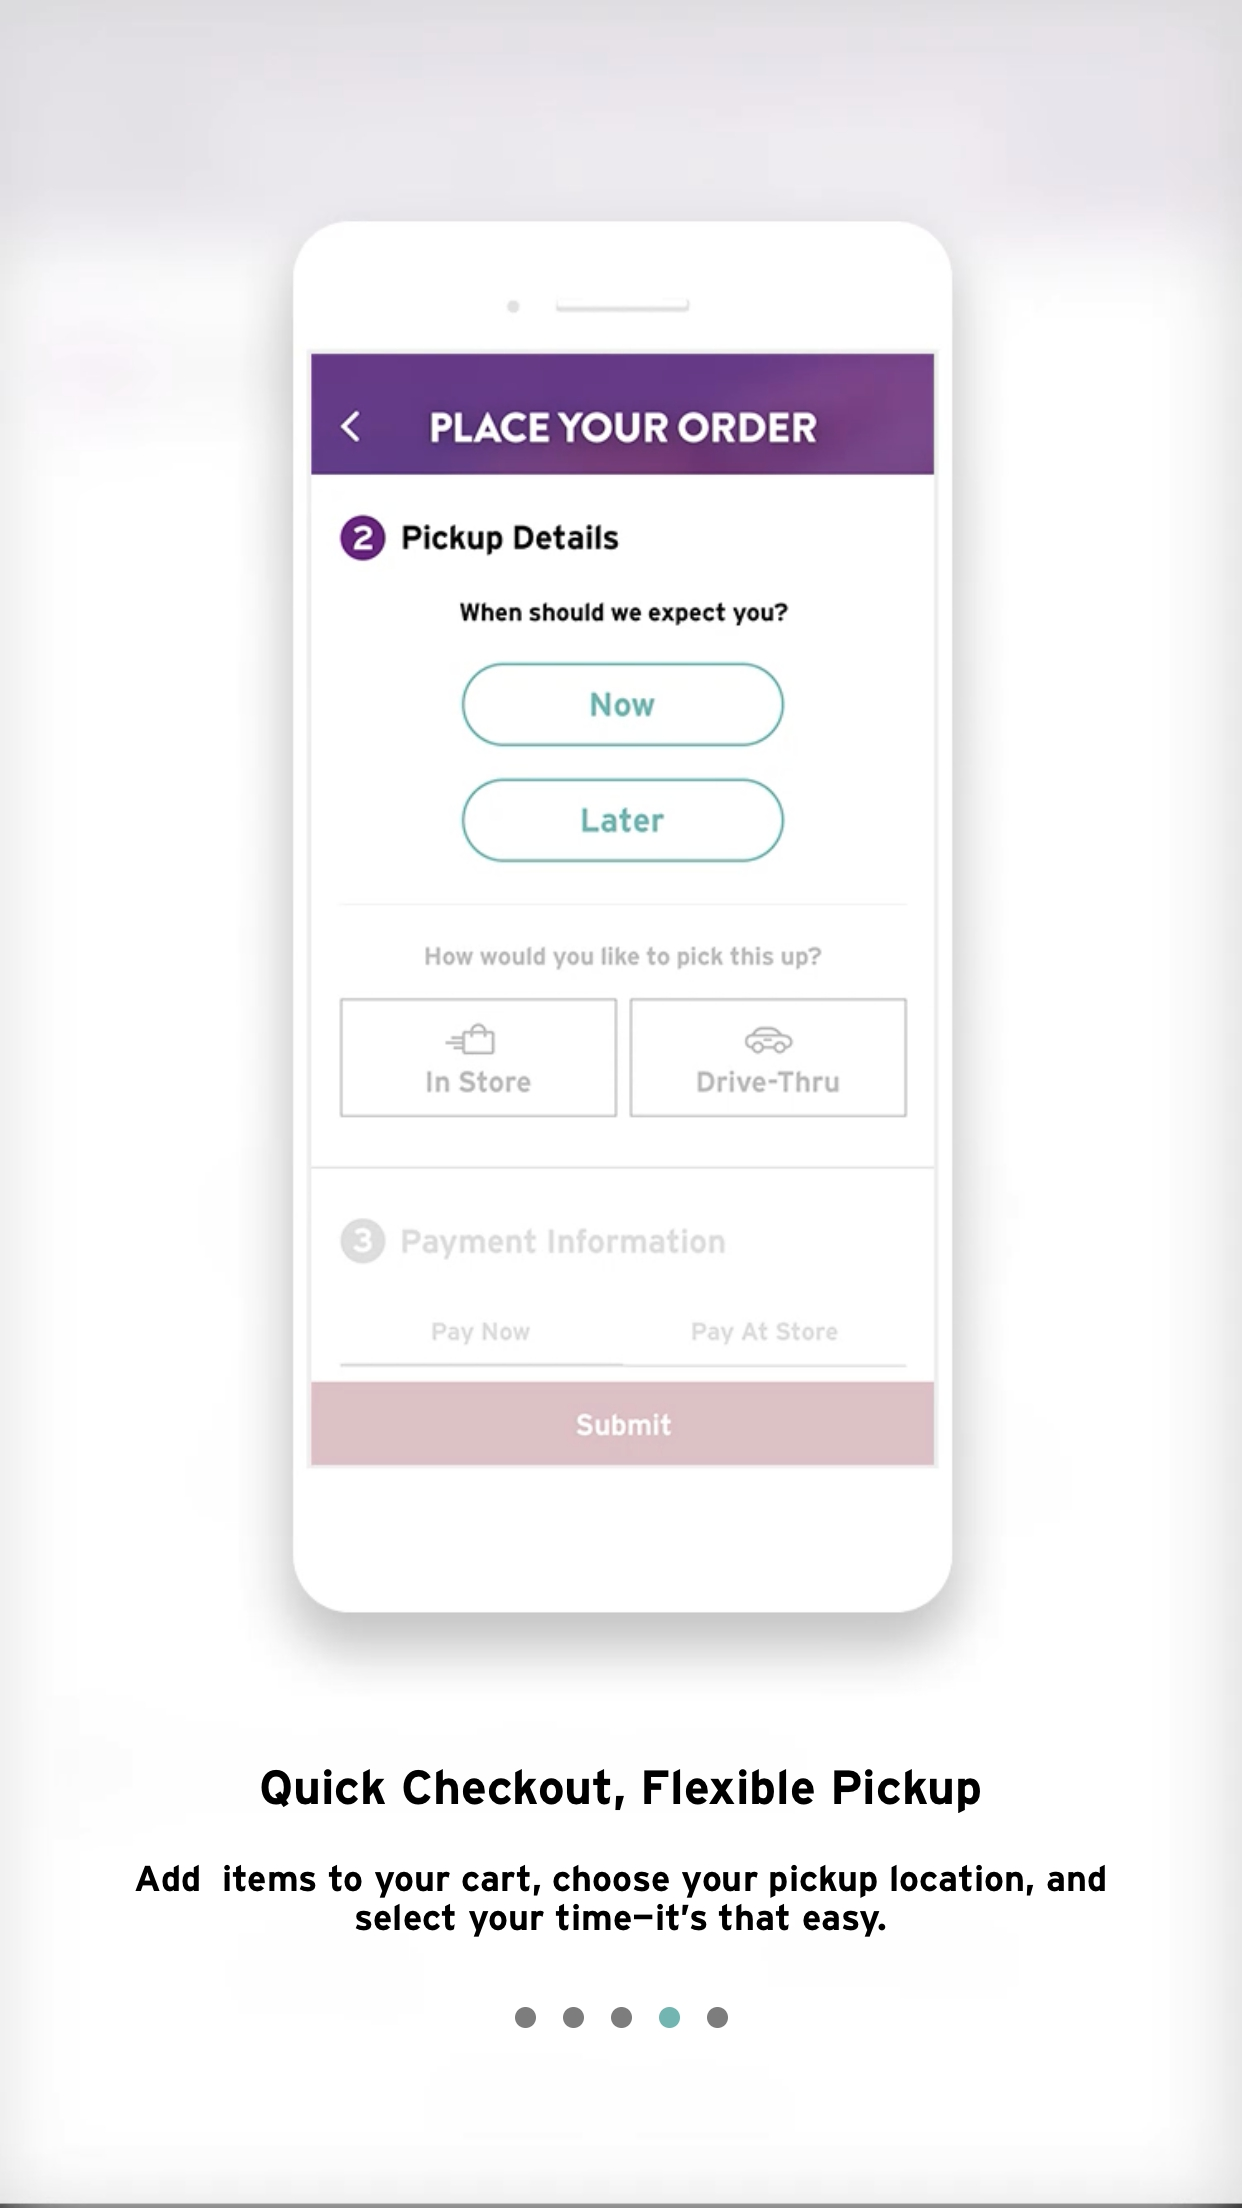Image: (291, 221, 955, 1615)
PageIndicator: (516, 2006, 729, 2029)
Text: (135, 1862, 1106, 1938), (261, 1768, 981, 1814)
